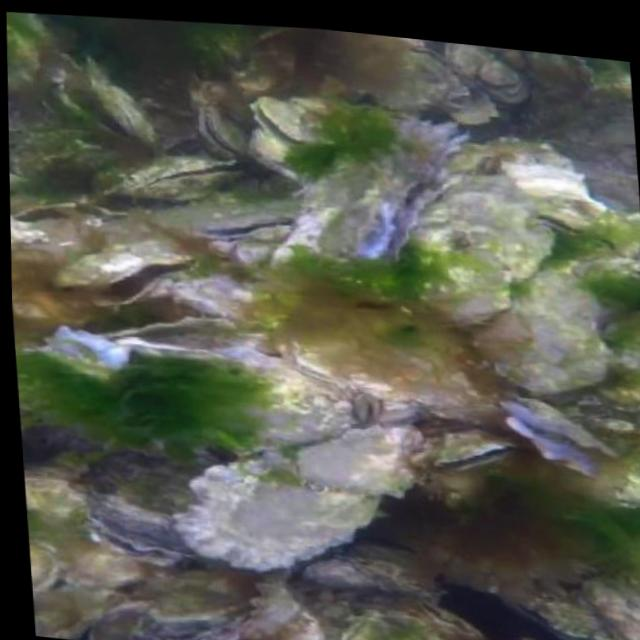Oyster-Closed: (80, 493, 216, 575), (102, 144, 260, 212), (492, 571, 640, 640), (430, 415, 512, 485), (186, 201, 301, 250), (193, 98, 257, 167), (416, 595, 498, 640), (532, 206, 588, 237)
Oyster-Indeterminate: (165, 423, 382, 584), (484, 302, 617, 410), (294, 409, 434, 508), (400, 220, 524, 330), (286, 525, 410, 608), (367, 52, 474, 129), (327, 595, 462, 640), (478, 51, 540, 115), (445, 74, 503, 140), (526, 51, 588, 100), (437, 41, 489, 84)
Oyster-Open: (49, 226, 198, 315), (501, 394, 619, 485), (53, 67, 156, 147), (245, 95, 315, 151), (9, 191, 79, 229)
